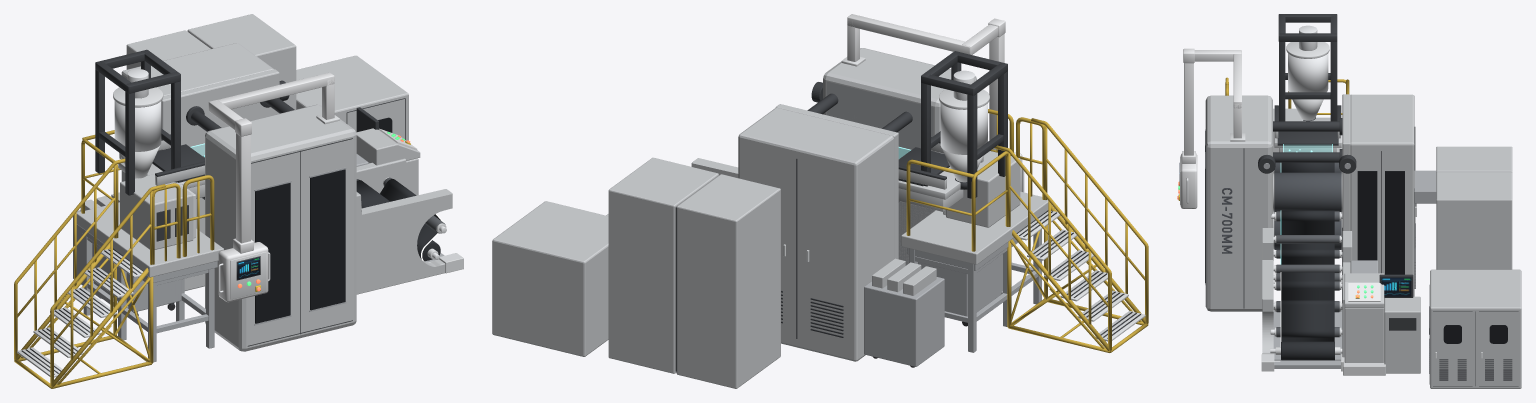
The model's file is cm700mm_calender.glb.
The picture shows the model from 3 angles, left to right: view 1: azimuth 30°, elevation 25°; view 2: azimuth 150°, elevation 25°; view 3: azimuth 270°, elevation 25°; orthographic projection. The views are drawn at different scales.
Parts seen in each view (by area): view 1: Front_CM700MM_Cabinet, Safety_Staircase_And_Guardrails, Feeding_Platform_And_SubFrame, Powder_Hopper_And_Dosing_Tower, Rear_Main_Frame_And_Drive, HMI_Cantilever_Pendant, Front_Winder_CheekPlate, Auxiliary_Thermal_Hydraulic_Unit, Rear_Electrical_PLC_Cabinet, Operator_Control_Desk, Electrode_Film_Web, Calender_Upper_TieRods; view 2: Rear_Electrical_PLC_Cabinet, Rear_Main_Frame_And_Drive, Feeding_Platform_And_SubFrame, Auxiliary_Thermal_Hydraulic_Unit, Safety_Staircase_And_Guardrails, Powder_Hopper_And_Dosing_Tower, Front_CM700MM_Cabinet, HMI_Cantilever_Pendant, Calender_Upper_TieRods; view 3: Rear_Main_Frame_And_Drive, Front_CM700MM_Cabinet, Auxiliary_Thermal_Hydraulic_Unit, Rear_Electrical_PLC_Cabinet, Operator_Control_Desk, Powder_Hopper_And_Dosing_Tower, Electrode_Film_Web, HMI_Cantilever_Pendant, Roll_R4_MainTop, Front_Winder_CheekPlate, Calender_Upper_TieRods, Winder_W1_Drum (+6 smaller).
Part boxes in pixels (x1,y1,x2,y2): Front_CM700MM_Cabinet: (205, 104, 356, 351); Safety_Staircase_And_Guardrails: (14, 130, 214, 388); Feeding_Platform_And_SubFrame: (73, 174, 223, 362); Powder_Hopper_And_Dosing_Tower: (95, 49, 204, 198); Rear_Main_Frame_And_Drive: (121, 43, 444, 290); HMI_Cantilever_Pendant: (208, 72, 339, 302); Front_Winder_CheekPlate: (356, 189, 463, 294); Auxiliary_Thermal_Hydraulic_Unit: (296, 55, 408, 140); Rear_Electrical_PLC_Cabinet: (126, 14, 296, 109); Operator_Control_Desk: (356, 107, 420, 195); Electrode_Film_Web: (356, 179, 440, 258); Calender_Upper_TieRods: (186, 98, 294, 131); Rear_Electrical_PLC_Cabinet: (608, 157, 780, 388); Rear_Main_Frame_And_Drive: (738, 104, 898, 361); Feeding_Platform_And_SubFrame: (864, 151, 1048, 367); Auxiliary_Thermal_Hydraulic_Unit: (492, 201, 608, 356); Safety_Staircase_And_Guardrails: (906, 109, 1148, 352); Powder_Hopper_And_Dosing_Tower: (898, 51, 1007, 211); Front_CM700MM_Cabinet: (811, 48, 976, 265); HMI_Cantilever_Pendant: (841, 14, 1024, 192); Calender_Upper_TieRods: (807, 93, 912, 132); Rear_Main_Frame_And_Drive: (1273, 94, 1416, 371); Front_CM700MM_Cabinet: (1205, 95, 1275, 311); Auxiliary_Thermal_Hydraulic_Unit: (1429, 269, 1521, 388); Rear_Electrical_PLC_Cabinet: (1414, 146, 1512, 269); Operator_Control_Desk: (1343, 273, 1420, 375); Powder_Hopper_And_Dosing_Tower: (1274, 14, 1341, 152); Electrode_Film_Web: (1281, 162, 1334, 341); HMI_Cantilever_Pendant: (1177, 48, 1245, 208); Roll_R4_MainTop: (1273, 172, 1342, 212); Front_Winder_CheekPlate: (1261, 228, 1280, 371); Calender_Upper_TieRods: (1273, 118, 1342, 162); Winder_W1_Drum: (1270, 341, 1342, 360).
Bounding box in the file's own units: 6.26 × 3.19 × 4.51.
21 materials, 1 textured.
